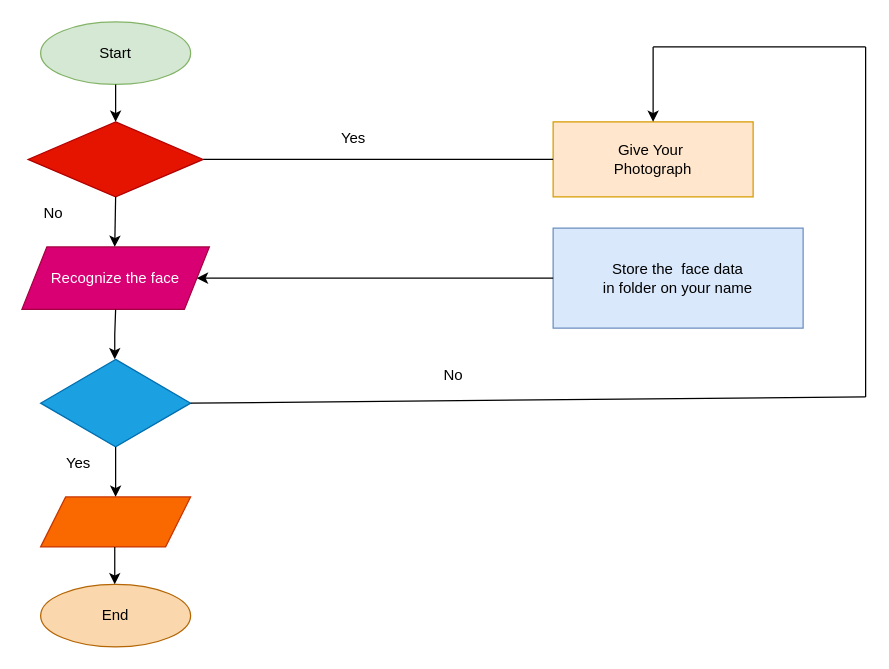
This 889x669 diagram has some shape labels left out. The centre of each missing label's shape, as x and y in pixels:
Face Recognized: (115,402)
New user? run create_db: (115,159)
Stored in csv file with Registration number and date: (115,521)
